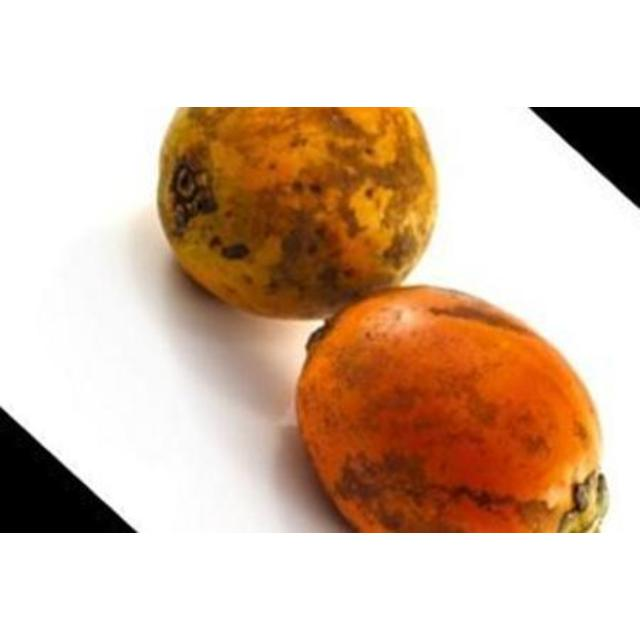good: (294, 286, 609, 532), (156, 107, 439, 323)
